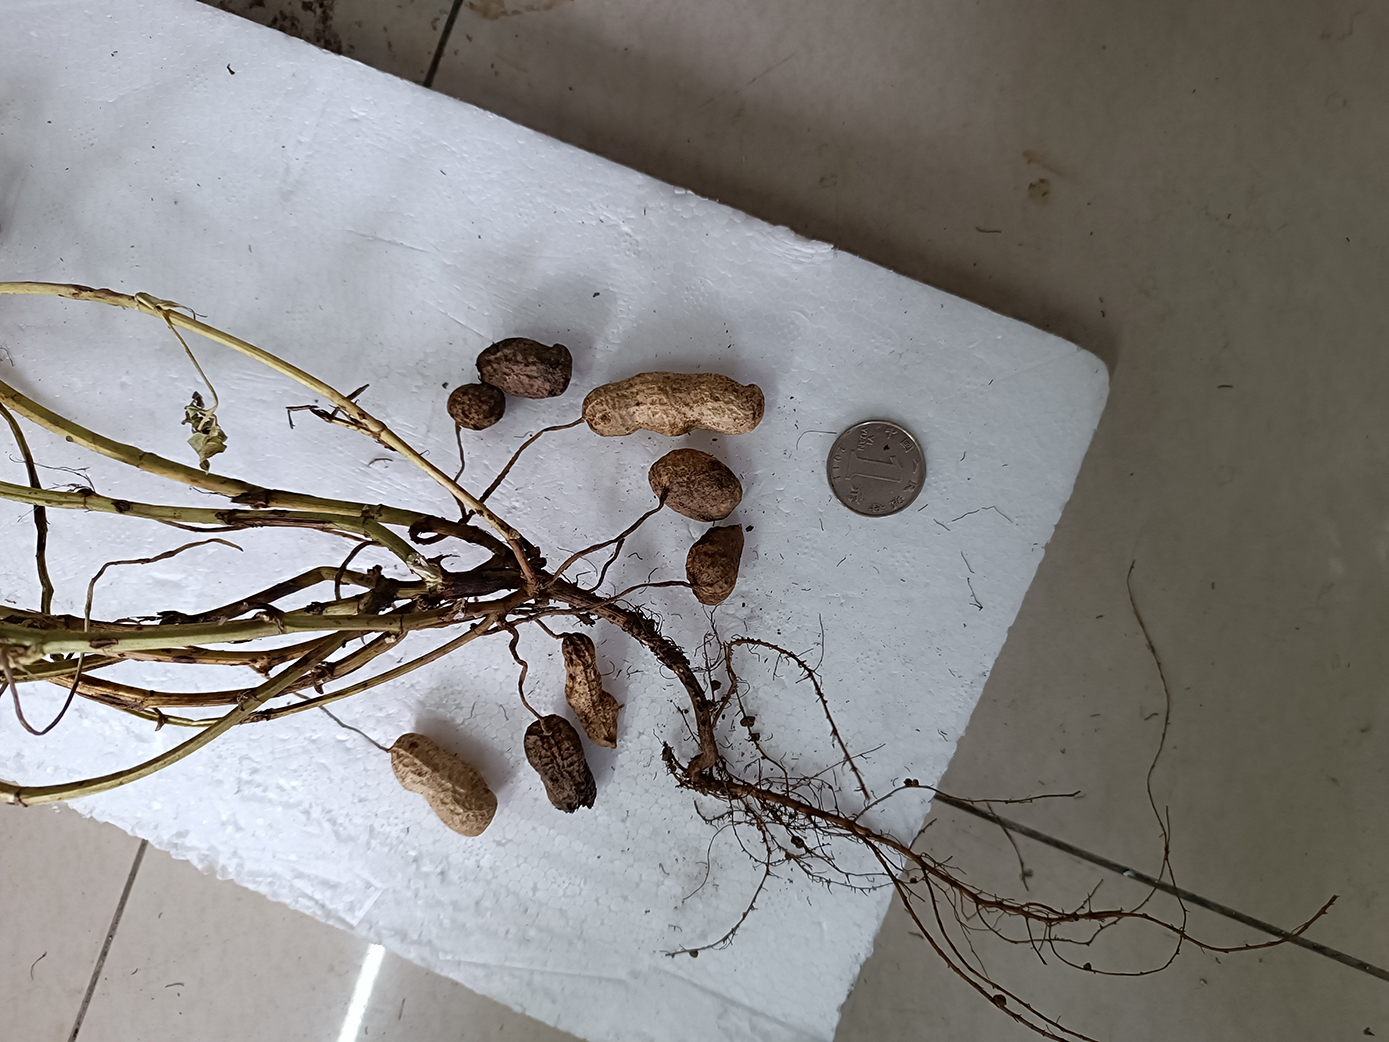h: (582, 371, 764, 437), (392, 732, 496, 838)
l: (559, 632, 621, 750), (647, 448, 746, 520), (523, 716, 597, 811), (473, 340, 576, 400), (684, 525, 744, 605), (444, 384, 506, 431)
